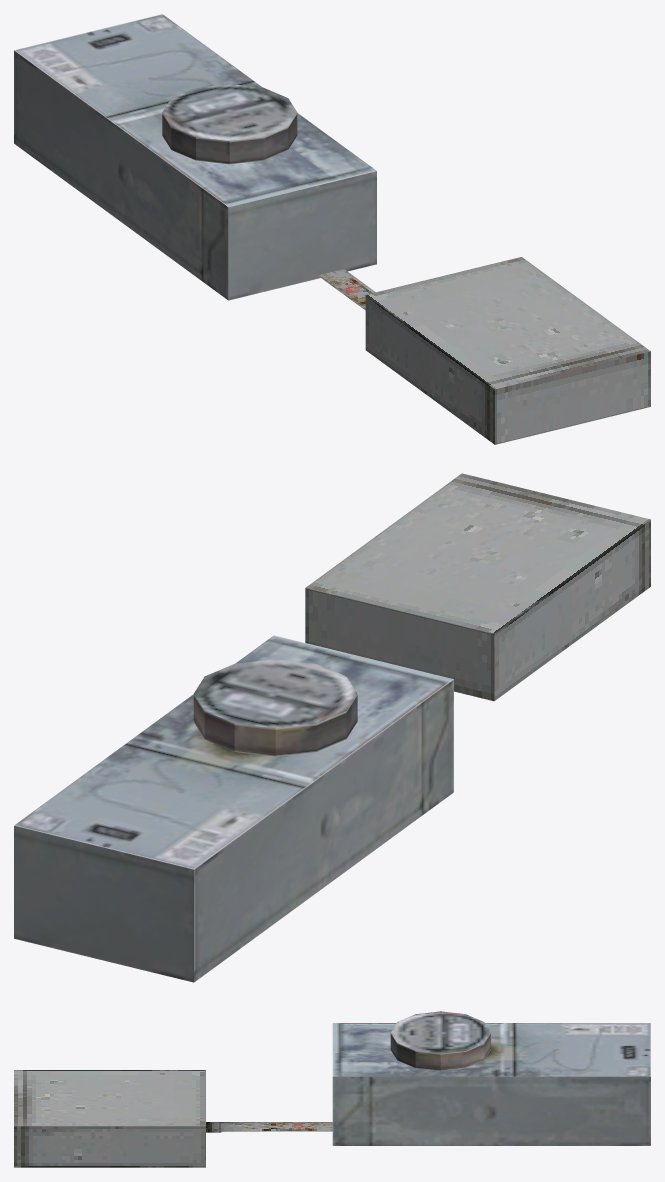
The model's file is power_meter.fbx.
The picture shows the model from 3 angles, top to bottom: view 1: azimuth 30°, elevation 25°; view 2: azimuth 150°, elevation 25°; view 3: azimuth 270°, elevation 25°; orthographic projection. The views are drawn at different scales.
Parts seen in each view (by area): view 1: mesh_1, mesh_0; view 2: mesh_1, mesh_0; view 3: mesh_1, mesh_0.
Boxes of the visible parts, <box> form: mesh_1: <box>14,14,376,300</box>; mesh_0: <box>318,257,650,444</box>; mesh_1: <box>14,635,453,982</box>; mesh_0: <box>305,473,650,701</box>; mesh_1: <box>332,1011,650,1145</box>; mesh_0: <box>14,1070,332,1167</box>.
Bounding box in the file's own units: 28 × 15 × 100.
2 materials, 2 textured.
